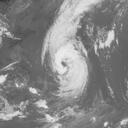cyclone: (40, 30, 89, 97)
